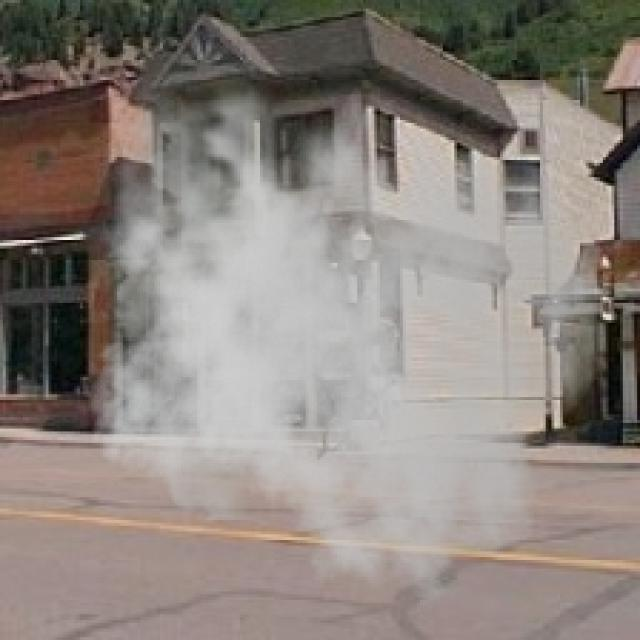smoke: (71, 54, 608, 603)
